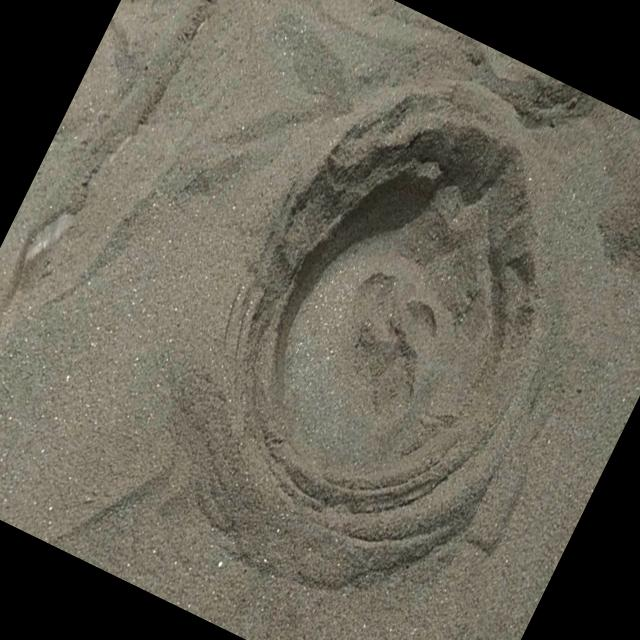C20: (194, 89, 557, 583)
